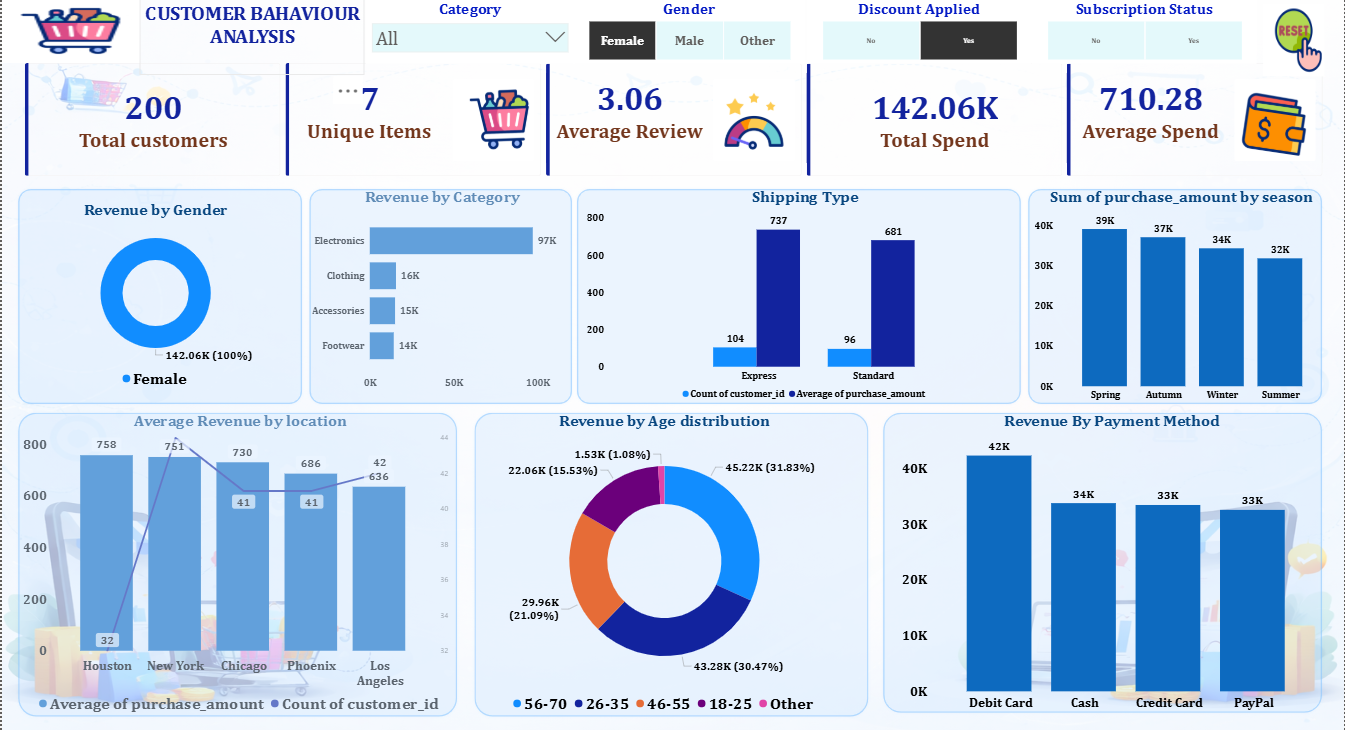

The dashboard page shown, as its layout file describes it:
{"tool":"powerbi","page":{"name":"Customer Analysis Revenue","canvas":[2200,1200],"ordinal":0},"visuals":[{"type":"cardVisual","fields":{"Data":["shopping_data customer_behaviour_analysis.Total customers","shopping_data customer_behaviour_analysis.Unique Items","shopping_data customer_behaviour_analysis.Average Review","shopping_data customer_behaviour_analysis.Total Spend","shopping_data customer_behaviour_analysis.Average Spend"]},"box":[20.5,88.1,2161.5,219.2],"z":0},{"type":"barChart","title":"Revenue by Category","fields":{"Category":["shopping_data customer_behaviour_analysis.category"],"Y":["Sum(shopping_data customer_behaviour_analysis.purchase_amount)"]},"box":[504,307.3,434.3,340.1],"z":1000},{"type":"shape","box":[22.5,307.3,473.3,360.6],"z":2000},{"type":"shape","box":[499.9,307.3,438.4,360.6],"z":3000},{"type":"shape","box":[1678,307.3,489.7,360.6],"z":5000},{"type":"shape","box":[938.3,307.3,735.5,360.6],"z":5500},{"type":"clusteredColumnChart","fields":{"Category":["shopping_data customer_behaviour_analysis.season"],"Y":["Sum(shopping_data customer_behaviour_analysis.purchase_amount)"]},"box":[1688.2,307.3,489.7,360.6],"z":6000},{"type":"clusteredColumnChart","title":" Shipping Type","fields":{"Category":["shopping_data customer_behaviour_analysis.shipping_type"],"Y":["CountNonNull(shopping_data customer_behaviour_analysis.customer_id)","Avg(shopping_data customer_behaviour_analysis.purchase_amount)"]},"box":[954.7,307.3,723.2,360.6],"z":7000},{"type":"shape","box":[770.3,674.1,653.6,506.1],"z":8000},{"type":"donutChart","title":"Revenue by Age distribution","fields":{"Y":["Sum(shopping_data customer_behaviour_analysis.purchase_amount)"],"Category":["shopping_data customer_behaviour_analysis.age (groups)"]},"box":[770.3,674.1,631,506.1],"z":9000},{"type":"shape","box":[1440.3,674.1,727.3,499.9],"z":10000},{"type":"clusteredColumnChart","title":"Revenue By Payment Method","fields":{"Category":["shopping_data customer_behaviour_analysis.payment_method"],"Y":["Sum(shopping_data customer_behaviour_analysis.purchase_amount)"]},"box":[1471,674.1,696.6,499.9],"z":11000},{"type":"lineClusteredColumnComboChart","title":"Average Revenue by location","fields":{"Category":["shopping_data customer_behaviour_analysis.location"],"Y":["Avg(shopping_data customer_behaviour_analysis.purchase_amount)"],"Y2":["CountNonNull(shopping_data customer_behaviour_analysis.customer_id)"]},"box":[30.7,674.1,719.1,506.1],"z":12000},{"type":"shape","box":[22.5,674.1,727.3,506.1],"z":13000},{"type":"textbox","box":[225,0,370,125],"z":14000},{"type":"actionButton","box":[0,0,225,105],"z":15000},{"type":"donutChart","title":"Revenue by Gender","fields":{"Category":["shopping_data customer_behaviour_analysis.gender"],"Y":["Sum(shopping_data customer_behaviour_analysis.purchase_amount)"]},"box":[30,327.5,442.5,320],"z":16000},{"type":"slicer","title":"Category","fields":{"Values":["shopping_data customer_behaviour_analysis.category"]},"box":[596,0,342,106],"z":17000},{"type":"slicer","title":"Gender","fields":{"Values":["shopping_data customer_behaviour_analysis.gender"]},"box":[936,0,380,106],"z":18000},{"type":"slicer","title":"Discount Applied","fields":{"Values":["shopping_data customer_behaviour_analysis.discount_applied"]},"box":[1320,0,368,106],"z":19000},{"type":"slicer","title":"Subscription Status","fields":{"Values":["shopping_data customer_behaviour_analysis.subscription_status"]},"box":[1688,0,368,106],"z":20000},{"type":"actionButton","box":[2066.7,8.3,100,118.3],"z":21000}]}

Visuals, with their boxes in screenshot pixels (x1, y1, x2, y2), scaled from the page's 2200x1200 canvas onto the 1345x730 screenshot:
cardVisual - shopping_data customer_behaviour_analysis.Total customers x shopping_data customer_behaviour_analysis.Unique Items: pyautogui.locateOnScreen(13, 54, 1334, 187)
"Revenue by Category" barChart: pyautogui.locateOnScreen(308, 187, 574, 394)
shape: pyautogui.locateOnScreen(14, 187, 303, 406)
shape: pyautogui.locateOnScreen(306, 187, 574, 406)
shape: pyautogui.locateOnScreen(1026, 187, 1325, 406)
shape: pyautogui.locateOnScreen(574, 187, 1023, 406)
clusteredColumnChart - shopping_data customer_behaviour_analysis.season x Sum(shopping_data customer_behaviour_analysis.purchase_amount): pyautogui.locateOnScreen(1032, 187, 1331, 406)
" Shipping Type" clusteredColumnChart: pyautogui.locateOnScreen(584, 187, 1026, 406)
shape: pyautogui.locateOnScreen(471, 410, 871, 718)
"Revenue by Age distribution" donutChart: pyautogui.locateOnScreen(471, 410, 857, 718)
shape: pyautogui.locateOnScreen(881, 410, 1325, 714)
"Revenue By Payment Method" clusteredColumnChart: pyautogui.locateOnScreen(899, 410, 1325, 714)
"Average Revenue by location" lineClusteredColumnComboChart: pyautogui.locateOnScreen(19, 410, 458, 718)
shape: pyautogui.locateOnScreen(14, 410, 458, 718)
textbox: pyautogui.locateOnScreen(138, 0, 364, 76)
actionButton: pyautogui.locateOnScreen(0, 0, 138, 64)
"Revenue by Gender" donutChart: pyautogui.locateOnScreen(18, 199, 289, 394)
"Category" slicer: pyautogui.locateOnScreen(364, 0, 573, 64)
"Gender" slicer: pyautogui.locateOnScreen(572, 0, 805, 64)
"Discount Applied" slicer: pyautogui.locateOnScreen(807, 0, 1032, 64)
"Subscription Status" slicer: pyautogui.locateOnScreen(1032, 0, 1257, 64)
actionButton: pyautogui.locateOnScreen(1264, 5, 1325, 77)
